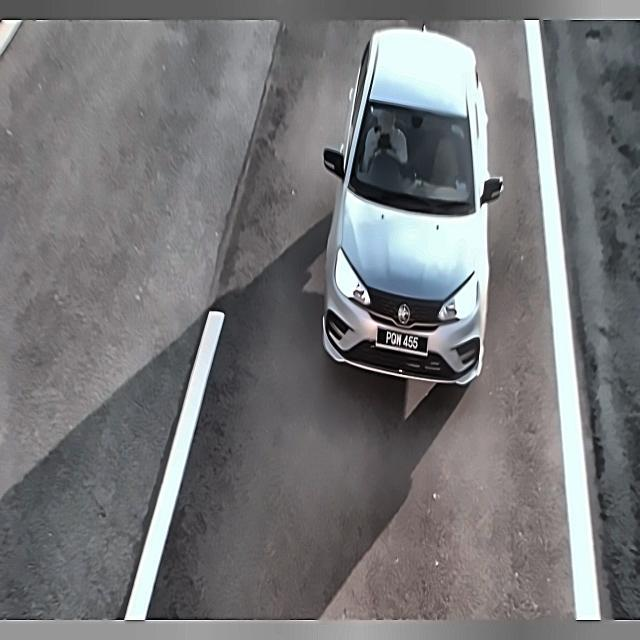car: (372, 326, 439, 363)
